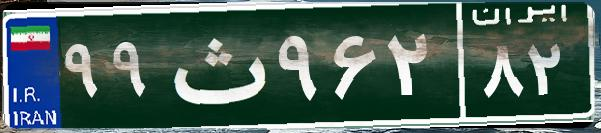2: (385, 28, 445, 110), (525, 38, 570, 115)
6: (330, 28, 385, 110)
8: (475, 38, 525, 113)
9: (273, 28, 330, 110), (57, 26, 110, 107), (110, 28, 158, 105)
ث: (158, 15, 273, 115)
